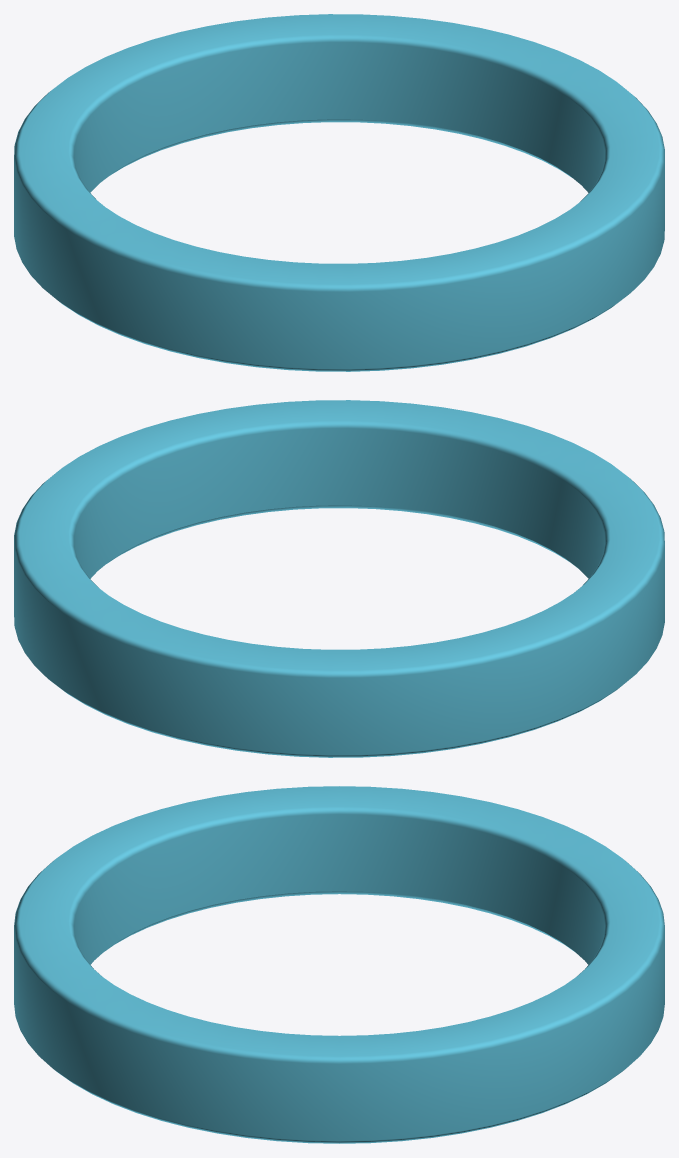
3 views of the same model, one above another, from view 1: azimuth 30°, elevation 25°; view 2: azimuth 150°, elevation 25°; view 3: azimuth 270°, elevation 25° (orthographic).
Visible parts, largest first — view 1: seal_body; view 2: seal_body; view 3: seal_body.
Part boxes in pixels (x1,y1,x2,y2): seal_body: (14,14,664,371); seal_body: (14,400,664,757); seal_body: (14,786,664,1143).
Bounding box in the file's own units: 0.0857 × 0.0127 × 0.0857.
